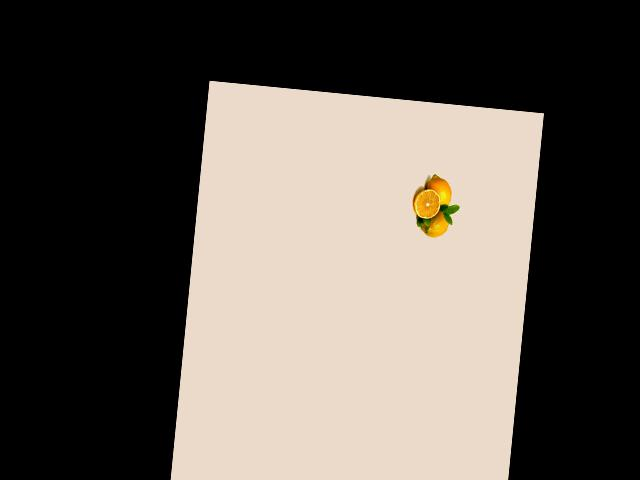lemon: (417, 205, 452, 241)
